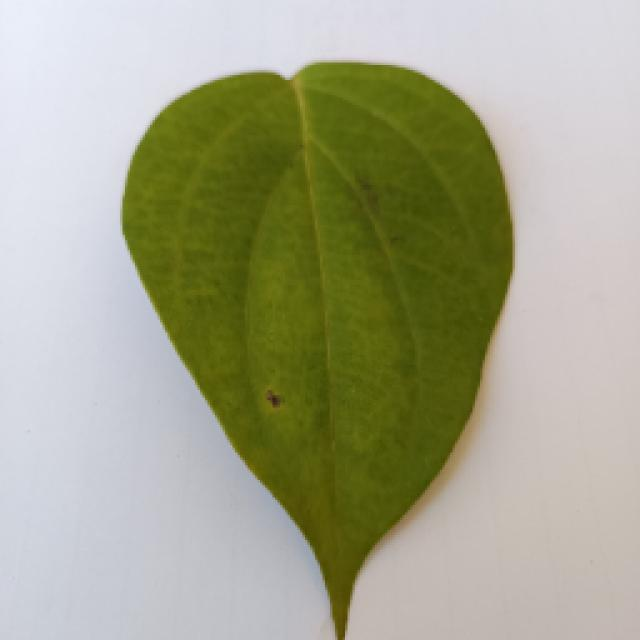slow-decline: (118, 60, 510, 635)
